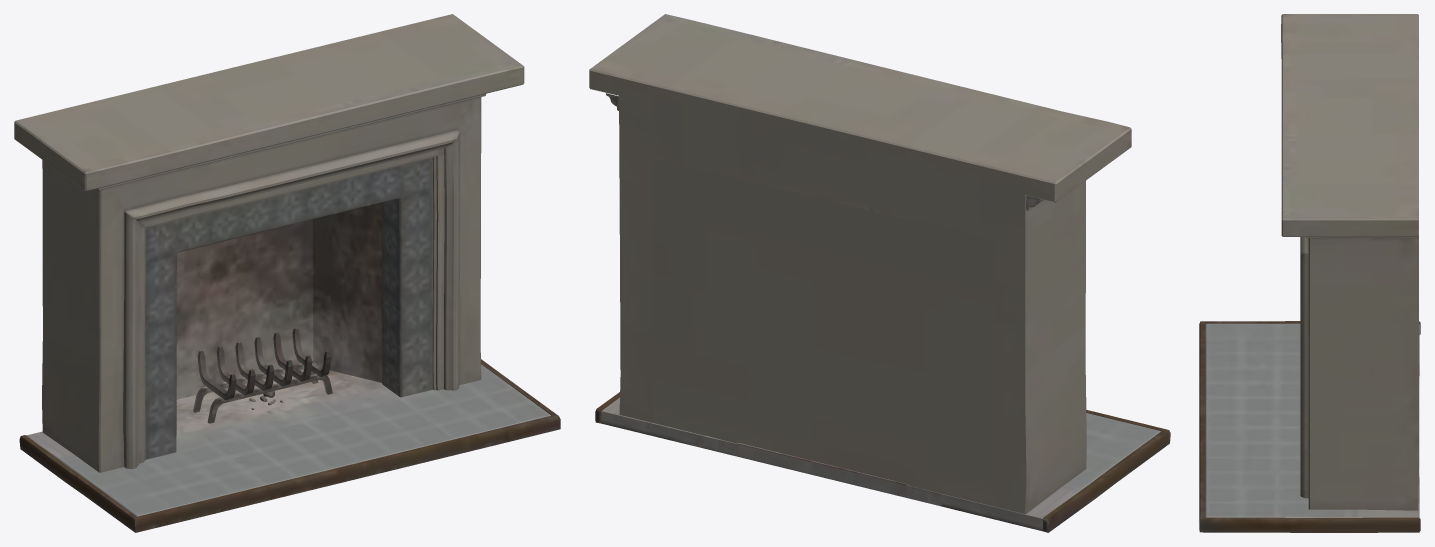
File: SM_Fireplace_04_08463b.glb
The picture shows the model from 3 angles, left to right: view 1: azimuth 30°, elevation 25°; view 2: azimuth 150°, elevation 25°; view 3: azimuth 270°, elevation 25°; orthographic projection. The views are drawn at different scales.
Bounding box in the file's own units: 1.91 × 1.37 × 0.8686.
1 material, 1 textured.
